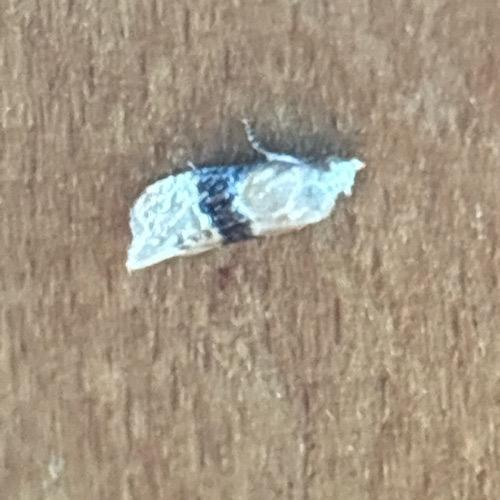Eupoecilia Ambiguella: (123, 115, 367, 276)
